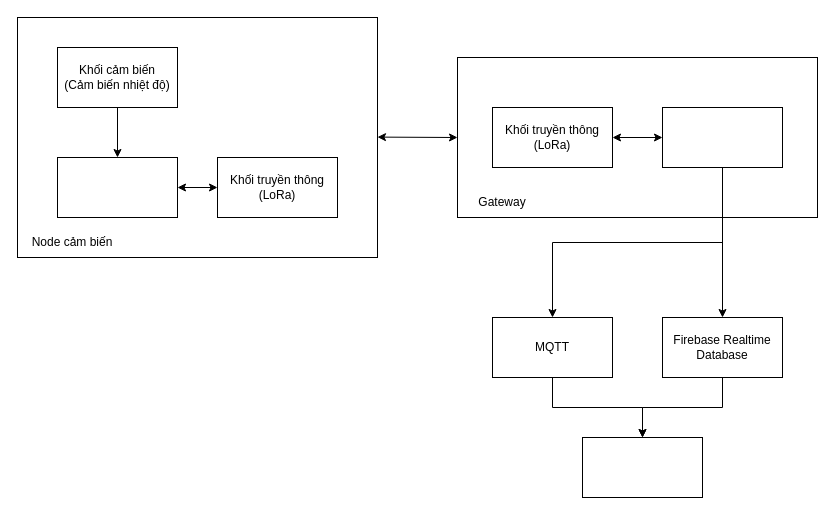
This 835x515 diagram has some shape labels left out. Each missing label, with the centre of its shape:
ESP8266: the point at 722,137
Khối xử lý (ESP8266): the point at 117,187
Server (NodeJS): the point at 642,467
